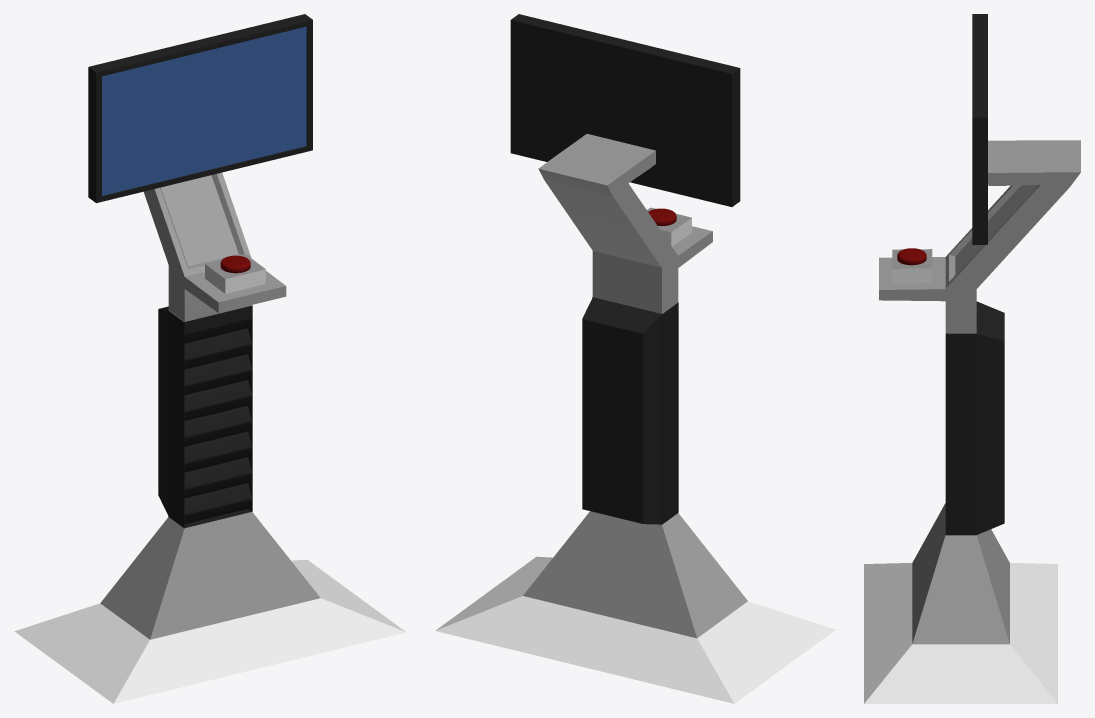
Rendered from Checkpoint2.fbx.
The picture shows the model from 3 angles, left to right: view 1: azimuth 30°, elevation 25°; view 2: azimuth 150°, elevation 25°; view 3: azimuth 270°, elevation 25°; orthographic projection. The views are drawn at different scales.
Visible parts, largest first — view 1: Cube, Cube.001, Cube.002; view 2: Cube, Cube.001, Cube.002; view 3: Cube, Cube.001, Cube.002, Cylinder.
Part boxes in pixels (box(x1,y1,x2,y2)): Cube: box(14, 172, 406, 703); Cube.001: box(88, 14, 312, 203); Cube.002: box(205, 254, 265, 293); Cube: box(435, 134, 835, 703); Cube.001: box(510, 14, 740, 206); Cube.002: box(647, 207, 691, 246); Cube: box(864, 140, 1080, 703); Cube.001: box(972, 14, 987, 244); Cube.002: box(892, 249, 932, 283); Cylinder: box(897, 248, 926, 265).
Bounding box in the file's own units: 361 × 685 × 237.
